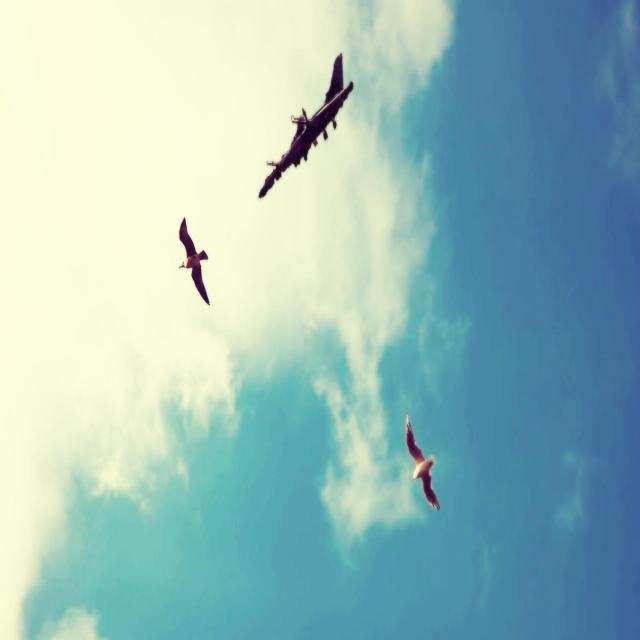airplane: (258, 52, 354, 198)
